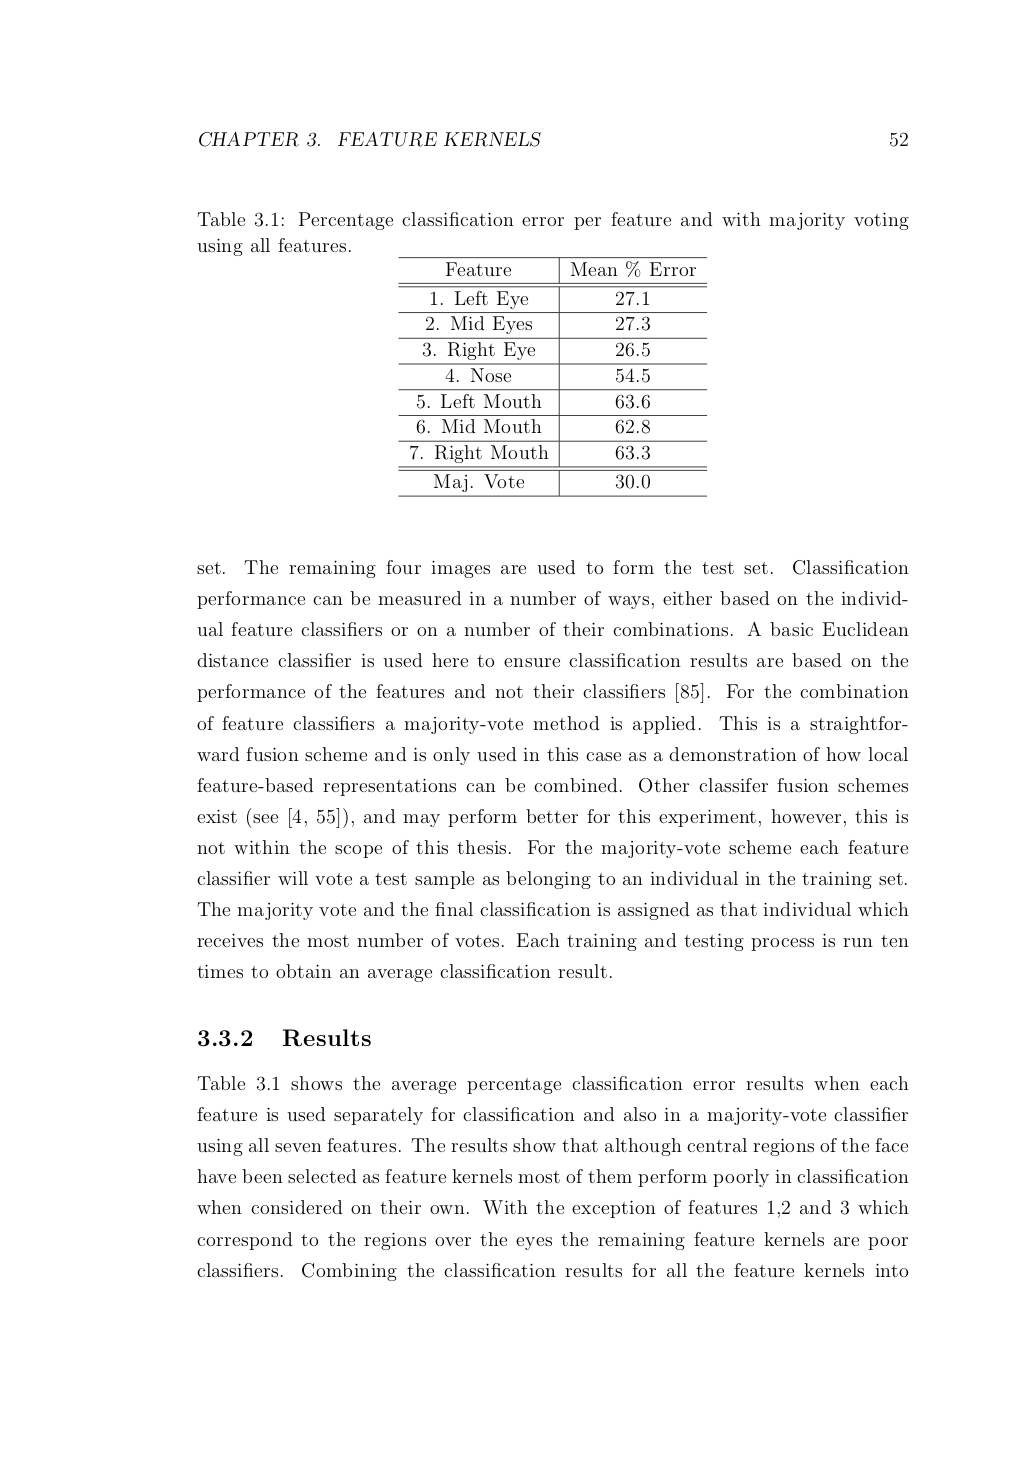Table: (398, 257, 707, 491)
